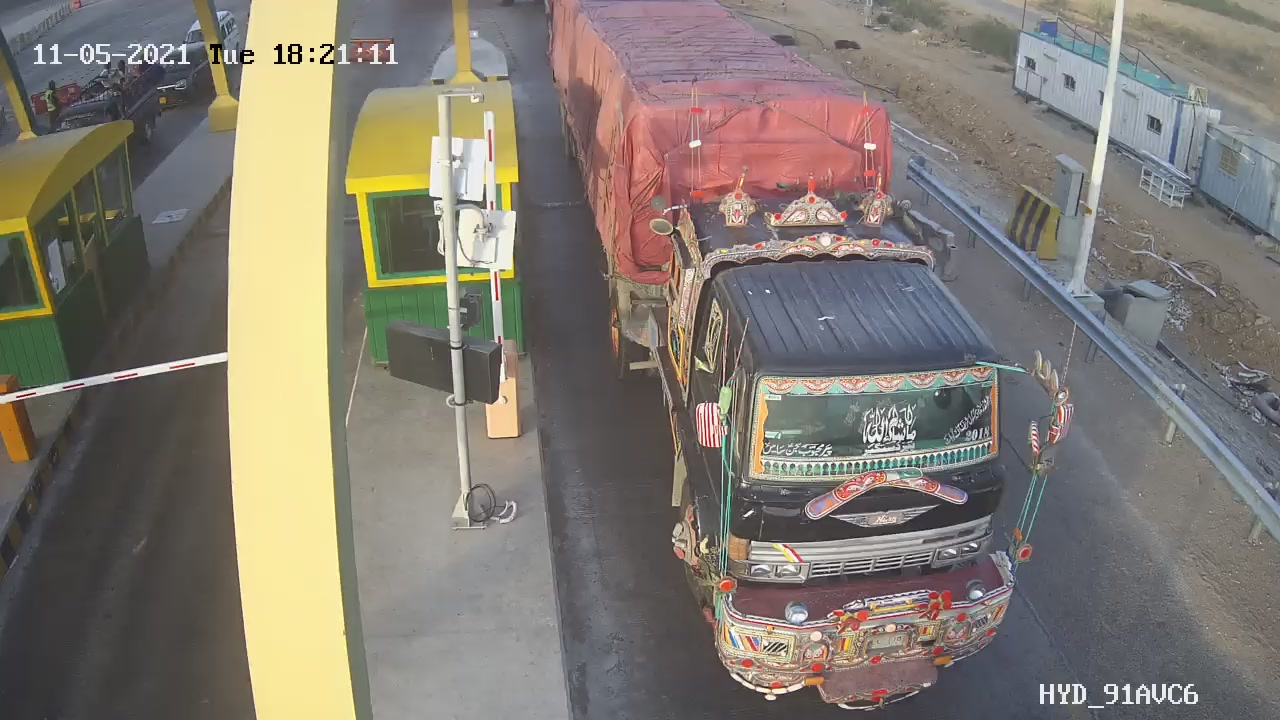F6: (533, 1, 1038, 703)
